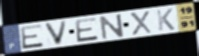E: (19, 23, 46, 51), (74, 16, 100, 44)
K: (155, 8, 176, 32)
N: (99, 13, 126, 41)
V: (43, 20, 69, 47)
X: (128, 10, 154, 37)
